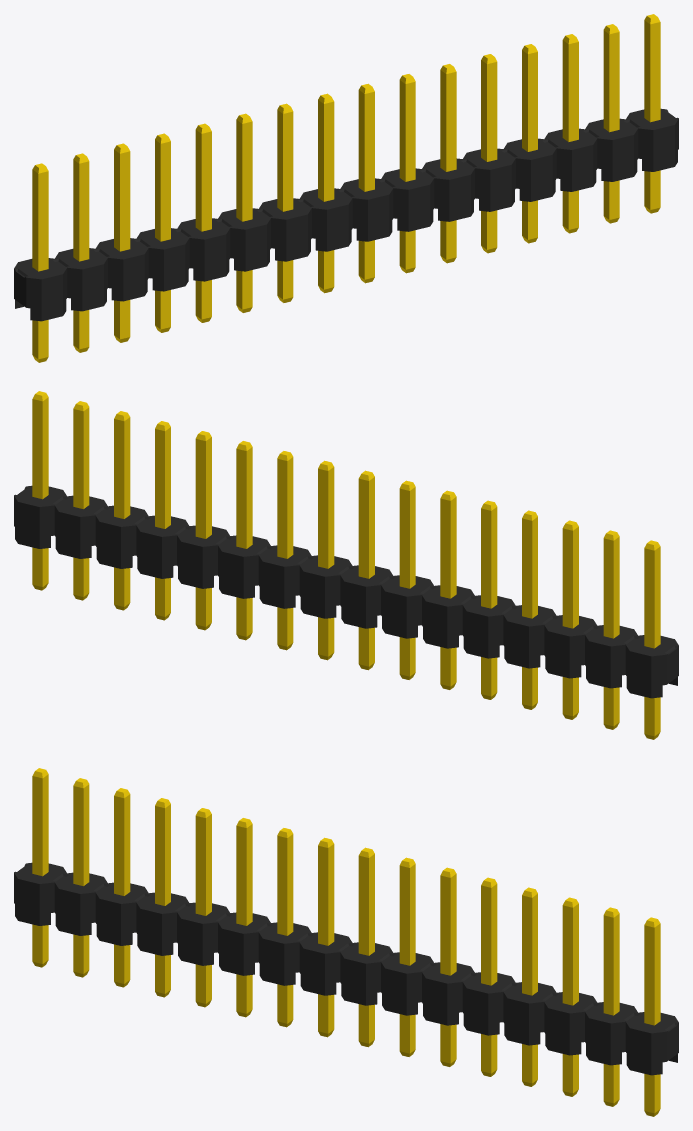
Rendered from PLS16.glb.
3 views of the same model, one above another, from view 1: azimuth 30°, elevation 25°; view 2: azimuth 150°, elevation 25°; view 3: azimuth 330°, elevation 25° (orthographic).
Parts seen in each view (by area): view 1: PLS (DS1021 CONNFLY); view 2: PLS (DS1021 CONNFLY); view 3: PLS (DS1021 CONNFLY).
Part boxes in pixels (x1,y1,x2,y2): PLS (DS1021 CONNFLY): (14, 14, 678, 362); PLS (DS1021 CONNFLY): (14, 391, 678, 739); PLS (DS1021 CONNFLY): (14, 768, 678, 1116).
Bounding box in the file's own units: 0.0406 × 0.0116 × 0.00254.
